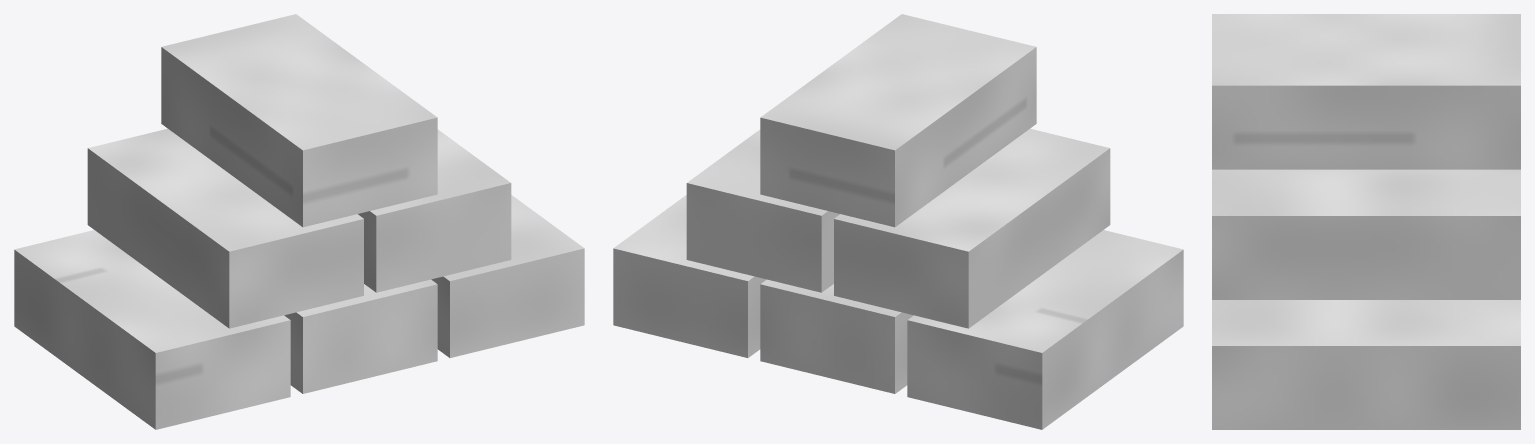
File: item_blocks.obj
3 views of the same model, side by side, from view 1: azimuth 30°, elevation 25°; view 2: azimuth 150°, elevation 25°; view 3: azimuth 270°, elevation 25° (orthographic). The views are drawn at different scales.
Visible parts, largest first — view 1: item_blocks; view 2: item_blocks; view 3: item_blocks.
Boxes of the visible parts, x1,y1,x2,y2 form: item_blocks: (14,14,584,429); item_blocks: (613,14,1183,429); item_blocks: (1212,14,1520,429).
Size of the model in its own units: 0.7 by 0.38 by 0.4.
